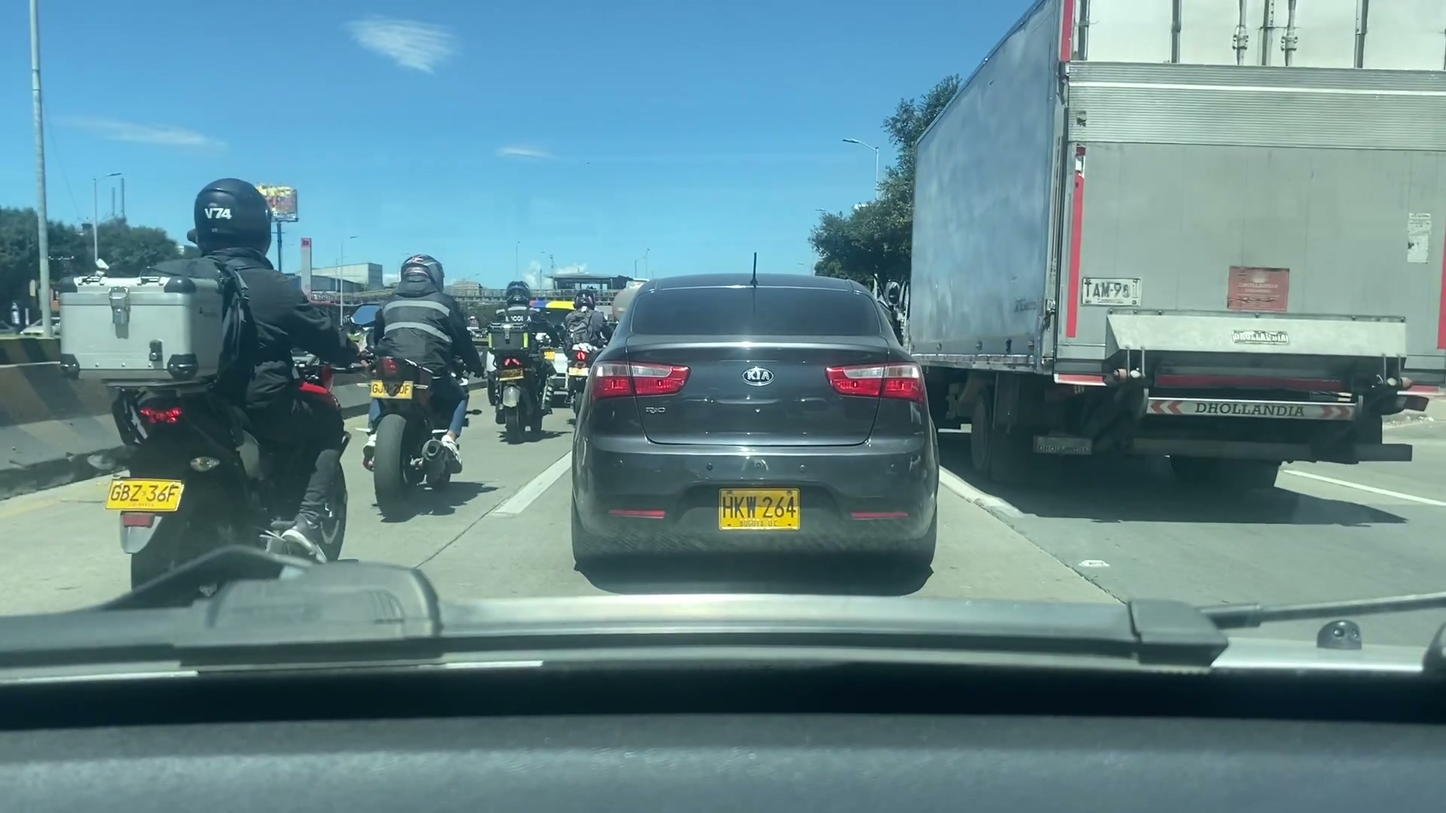car: (571, 270, 944, 572)
motorcycle: (105, 376, 356, 586), (361, 355, 477, 513), (479, 351, 554, 433), (563, 351, 600, 416)
person: (129, 175, 358, 559), (368, 258, 464, 474), (487, 277, 555, 417), (568, 290, 613, 407)
truck: (906, 2, 1445, 498)
